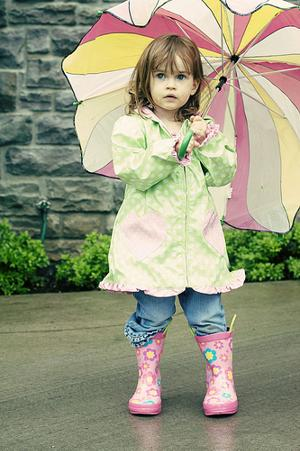person: (97, 37, 239, 417)
